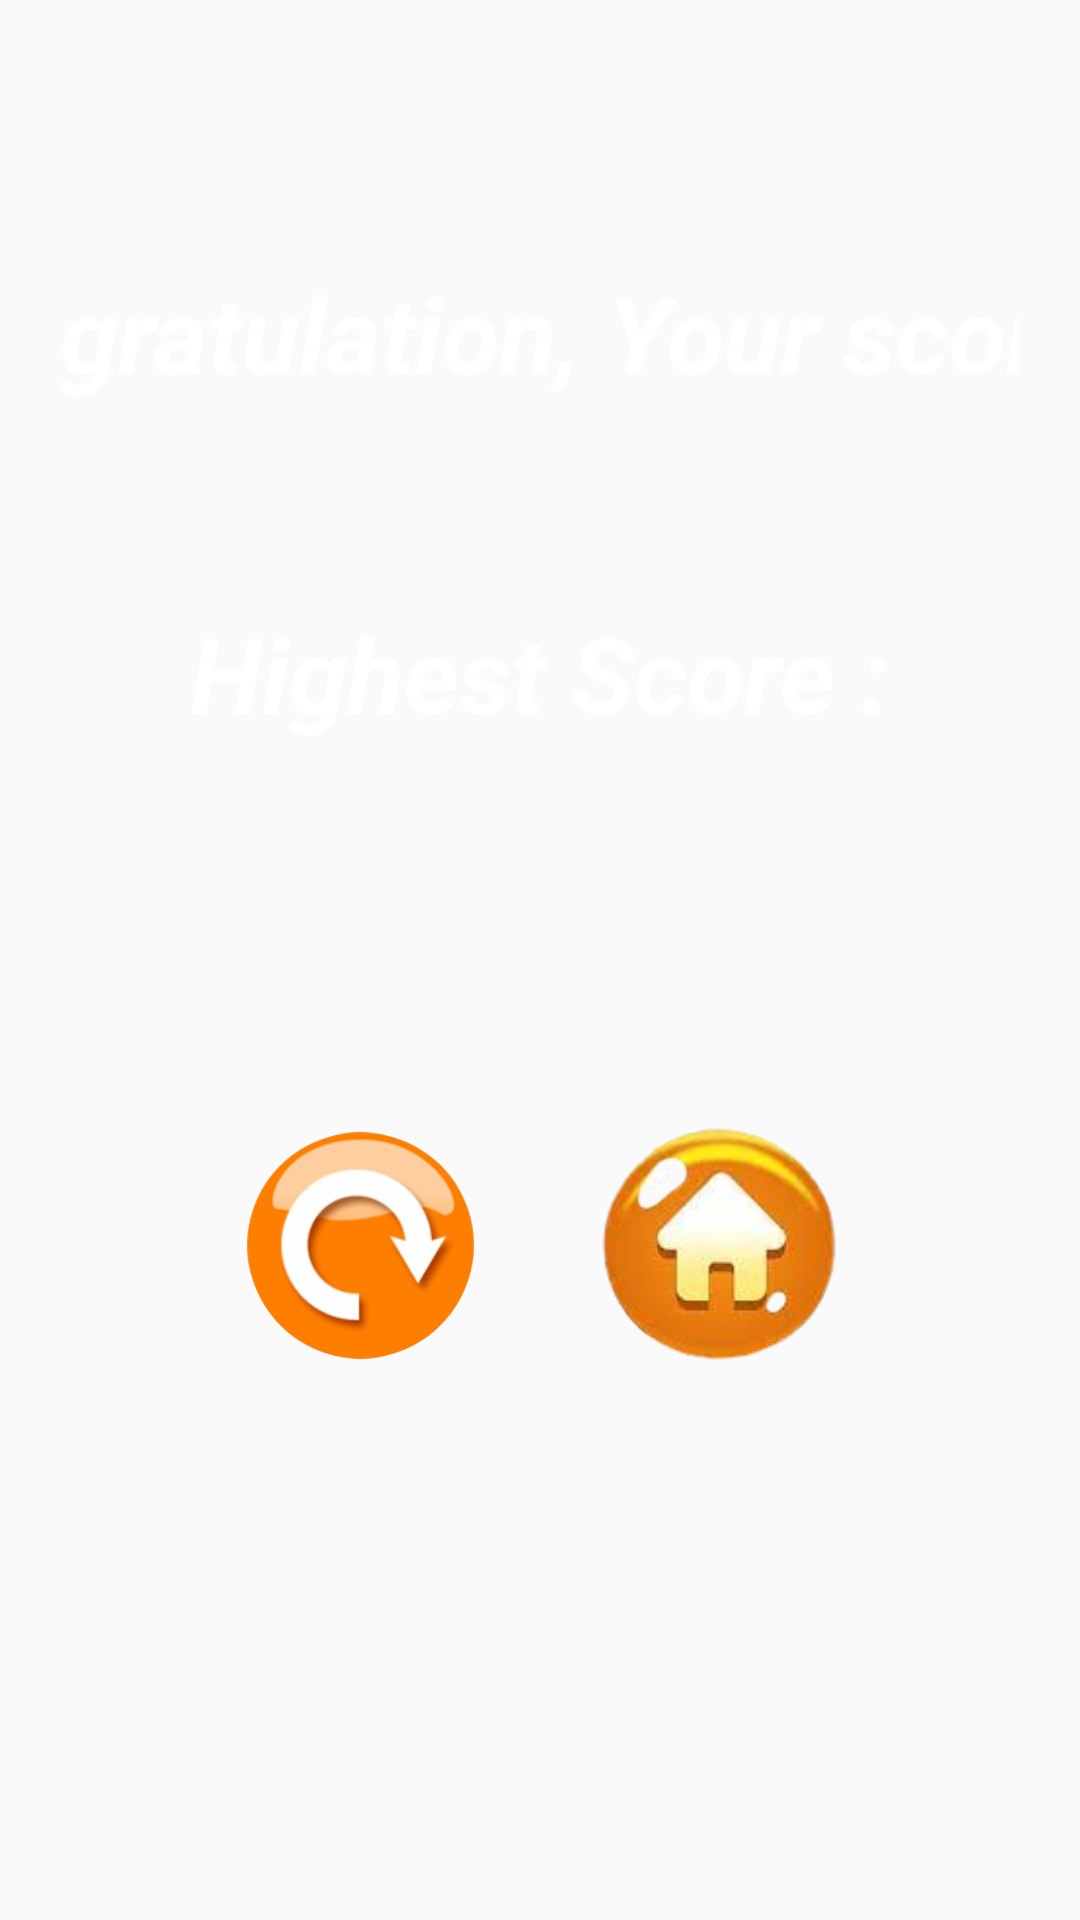

Screen size 1080 × 1920. Icon name, then its center in pixels as point (x, y):
home: point (719, 1244)
replay: point (360, 1245)
